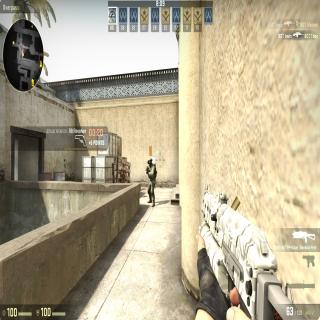CT-Body: (146, 156, 156, 206)
CT-Head: (148, 156, 152, 166)
